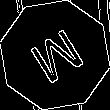M_SE: (22, 21, 88, 89)
